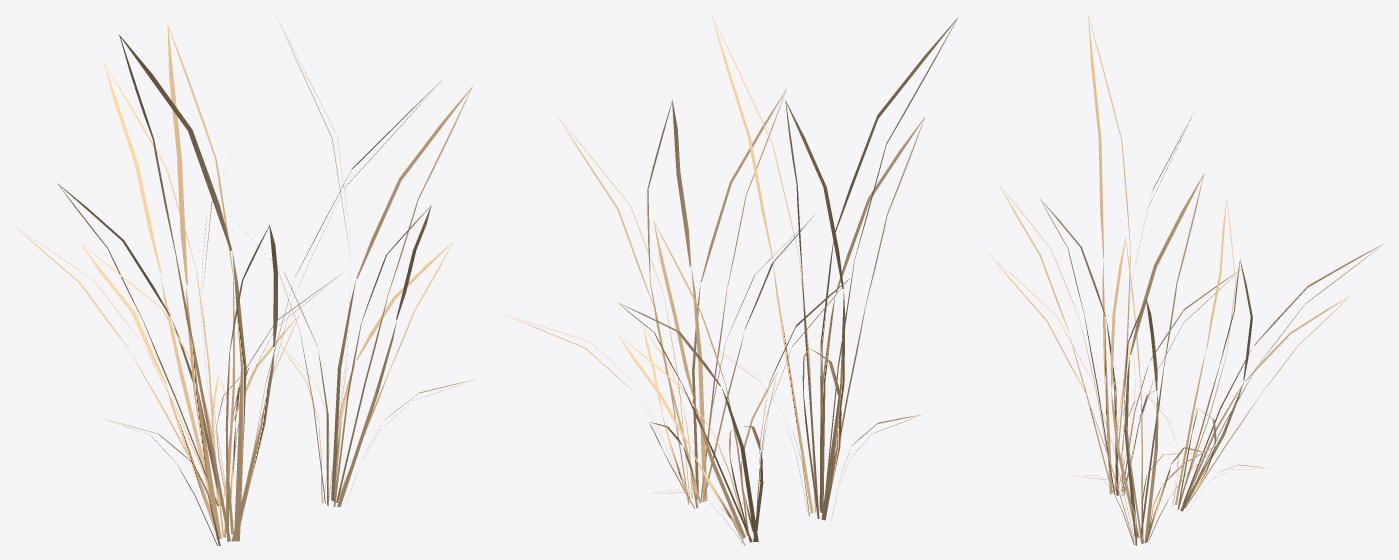
Rendered from mesh138__41213a15_522e_5440_98e7_76d05bfbb304__0_lev1.glb.
3 renders of one model, left to right at view 1: azimuth 30°, elevation 25°; view 2: azimuth 150°, elevation 25°; view 3: azimuth 270°, elevation 25°, orthographic. The views are drawn at different scales.
Visible parts, largest first — view 1: mesh138__41213a15_522e_5440_98e7_76d05bfbb304__0_lev1; view 2: mesh138__41213a15_522e_5440_98e7_76d05bfbb304__0_lev1; view 3: mesh138__41213a15_522e_5440_98e7_76d05bfbb304__0_lev1.
Part boxes in pixels (bbox=[...]): mesh138__41213a15_522e_5440_98e7_76d05bfbb304__0_lev1: bbox=[15, 17, 474, 545]; mesh138__41213a15_522e_5440_98e7_76d05bfbb304__0_lev1: bbox=[506, 15, 957, 545]; mesh138__41213a15_522e_5440_98e7_76d05bfbb304__0_lev1: bbox=[988, 14, 1383, 545].
Size of the model in its own units: 5.03 by 6.55 by 5.41.
